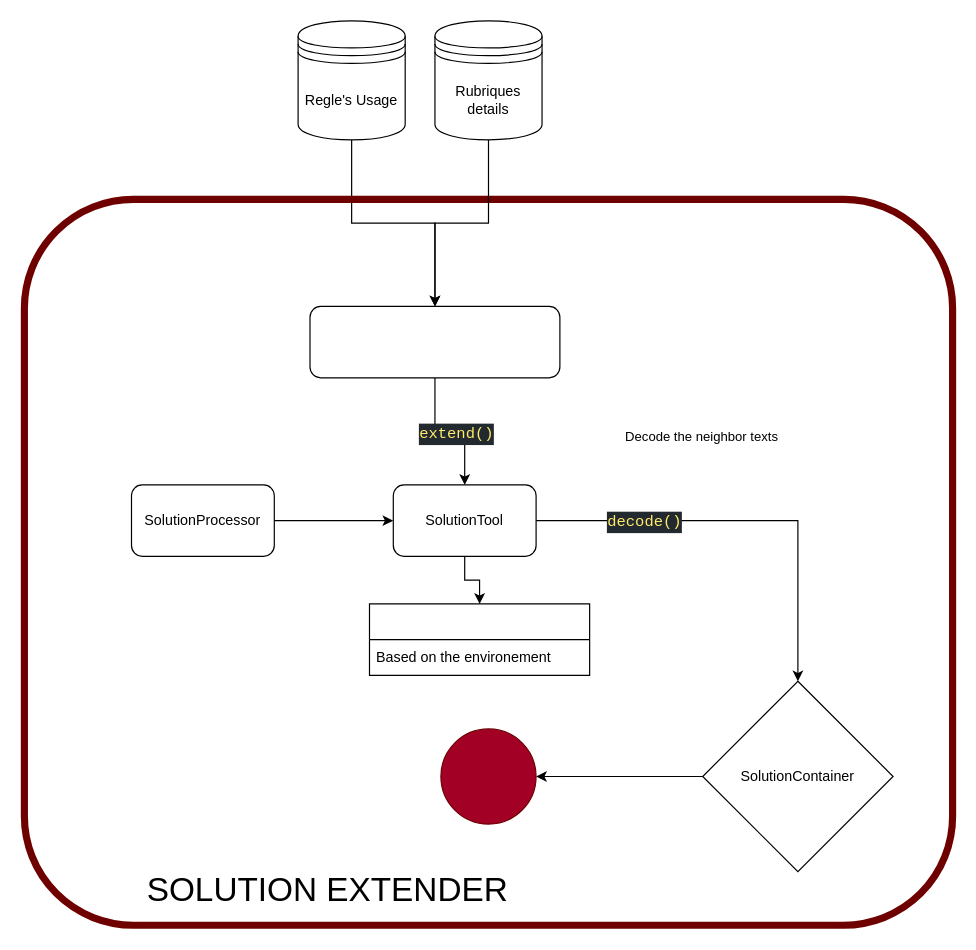
Image size: 976x950. Some labels were removed from this diagram. The box of each missing label's shape, as (x1, y1, x2, y2) in pixels:
FIN: (440, 728, 536, 824)
SolutionTool Implemtation: (368, 603, 590, 675)
SqlQueryResultatsEtendus.java: (309, 305, 560, 378)
